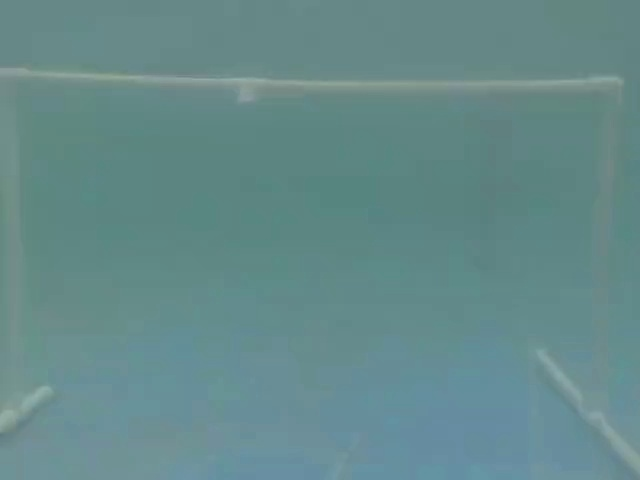gate: (5, 56, 640, 469)
